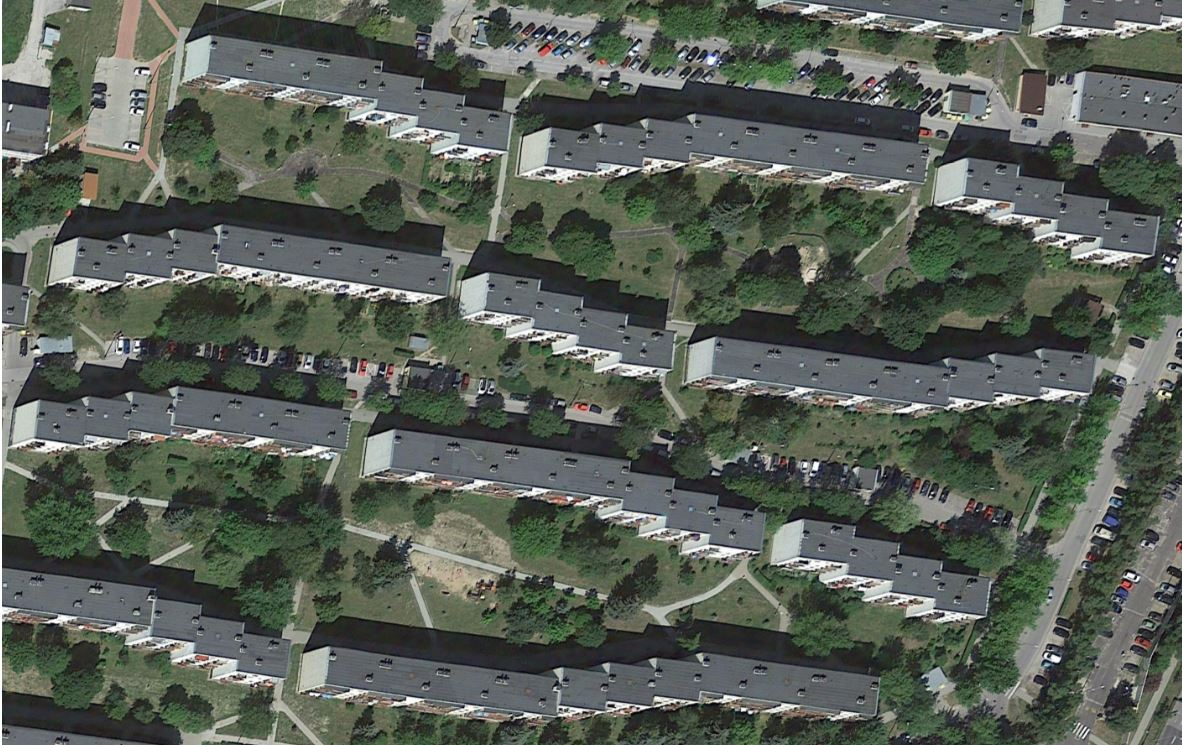block of flats: (289, 620, 885, 735), (358, 417, 770, 562), (175, 21, 521, 166), (515, 105, 932, 223), (1, 548, 299, 700), (41, 217, 460, 321), (676, 331, 1111, 419), (1, 378, 364, 483), (926, 143, 1165, 276), (763, 499, 999, 632), (456, 261, 681, 385), (738, 1, 1028, 49), (1070, 50, 1182, 148), (1021, 1, 1180, 41)
